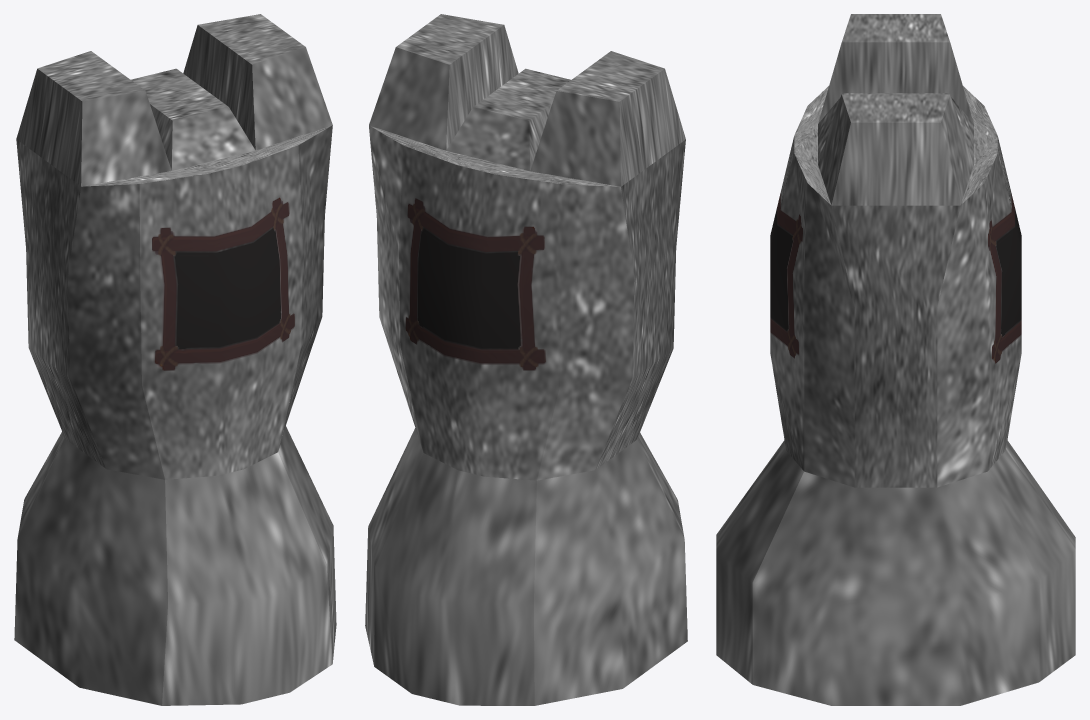
Rendered from Torre.FBX.
3 renders of one model, left to right at view 1: azimuth 30°, elevation 25°; view 2: azimuth 150°, elevation 25°; view 3: azimuth 270°, elevation 25°, orthographic.
Visible parts, largest first — view 1: Box001; view 2: Box001; view 3: Box001.
Boxes of the visible parts, <box> form: Box001: <box>14,14,336,705</box>; Box001: <box>365,14,687,705</box>; Box001: <box>716,14,1075,705</box>.
Bounding box in the file's own units: 35.86 × 76.67 × 43.56.
1 material, 1 textured.
